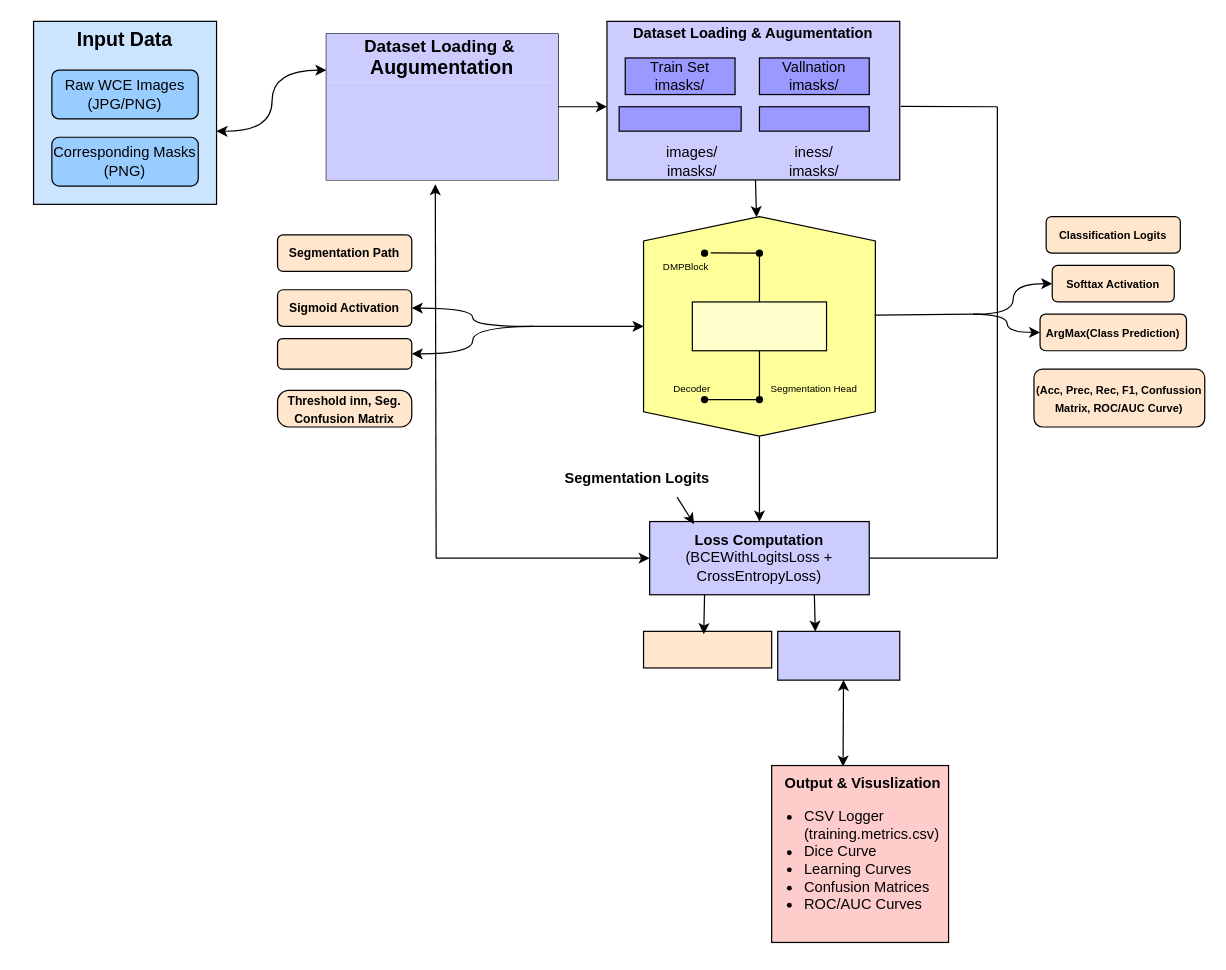
Some shapes in this 1226 by 970 pixel diagram are drawn without their labels. The centre of each missing label's shape, as x and y in pixels:
"DMP_WCEBleed Model" belongs at point (759, 326).
"Optimizer Step" belongs at point (707, 649).
"Optimizer Step (Adam)" belongs at point (838, 655).
"Test Dataloader" belongs at point (813, 118).
"Thresholding (>0.5)" belongs at point (344, 353).
"Train Dataloader" belongs at point (679, 118).
"WCEBleedDataset albumentations.A.Compose ToTensorV2 DataLoader" belongs at point (442, 130).
